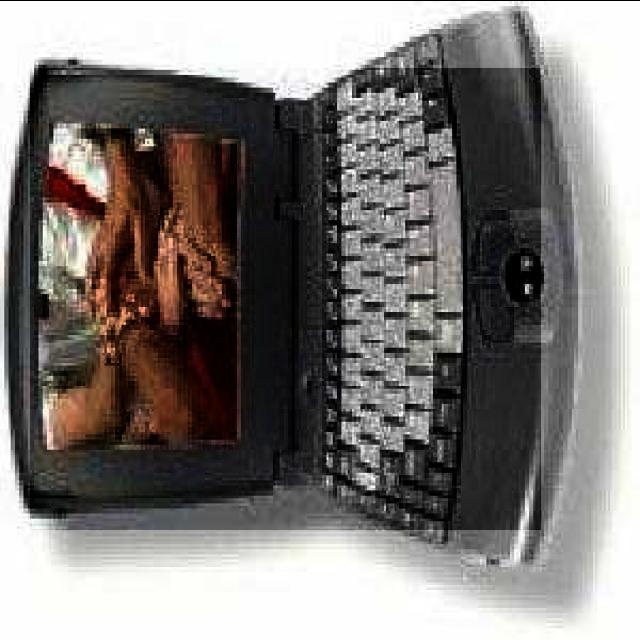-keyboard-: (30, 68, 541, 530)
